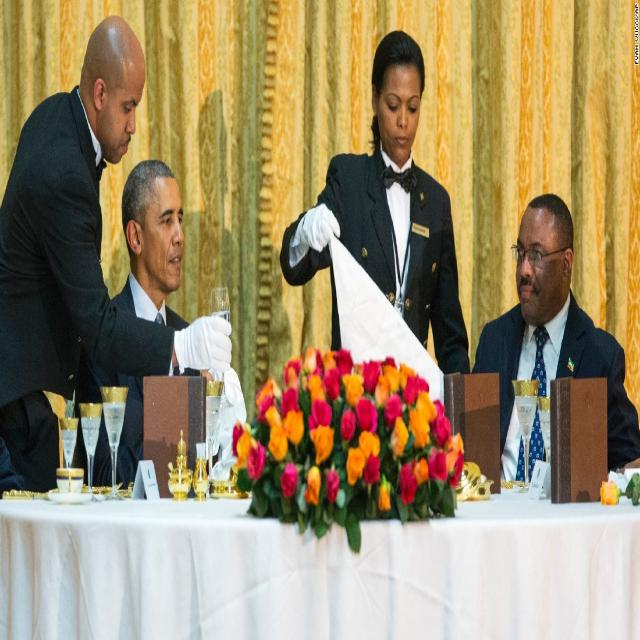body: (0, 9, 234, 496), (279, 26, 473, 373), (469, 190, 640, 483), (68, 155, 202, 490)
